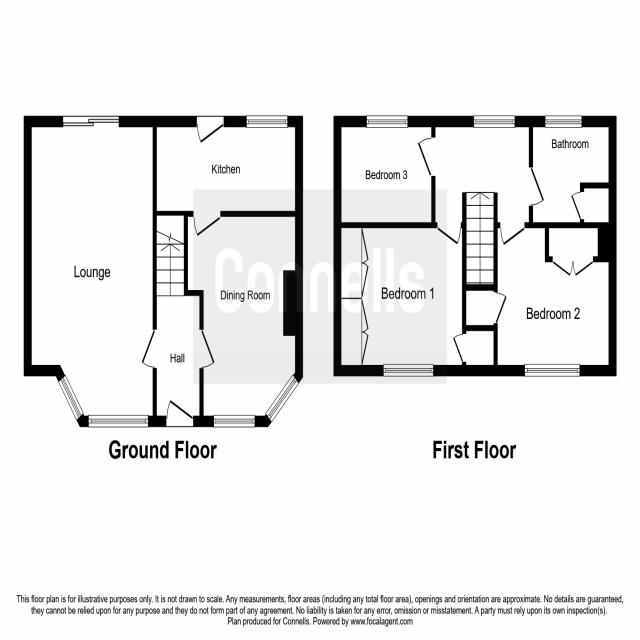DOOR: (416, 135, 436, 179), (165, 398, 194, 428), (498, 220, 527, 249), (196, 115, 224, 145), (192, 210, 222, 237), (140, 327, 158, 370), (528, 165, 546, 208), (435, 221, 463, 248), (199, 329, 216, 369), (492, 289, 509, 326), (451, 331, 467, 364)
ROOM: (23, 115, 157, 428), (184, 210, 304, 428), (332, 221, 467, 376), (493, 221, 617, 376), (152, 115, 303, 238), (333, 115, 436, 229), (528, 115, 617, 230)
SLIDING DOOR: (62, 115, 120, 128)
WINDOW: (265, 374, 300, 423), (57, 373, 85, 423), (523, 363, 581, 378), (87, 414, 149, 428), (382, 363, 434, 378), (473, 113, 516, 129), (246, 114, 289, 129), (366, 115, 409, 129), (213, 414, 255, 428), (544, 114, 583, 129)
